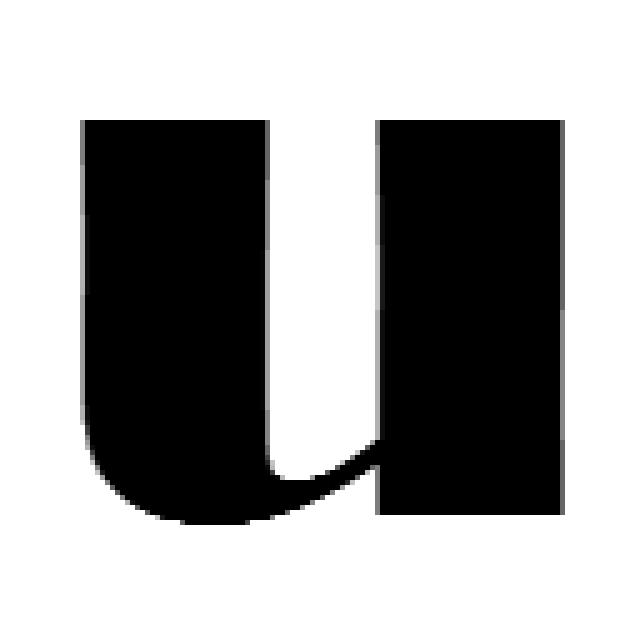U: (81, 118, 567, 522)
